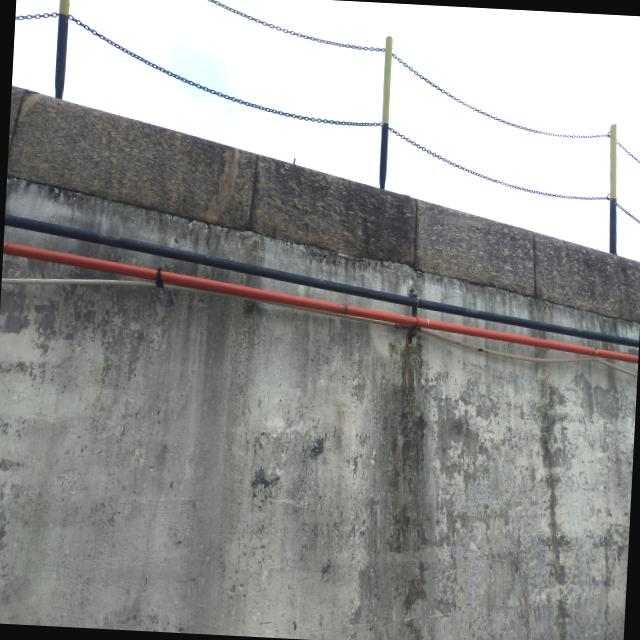gas: (6, 215, 640, 347), (7, 240, 638, 364)
